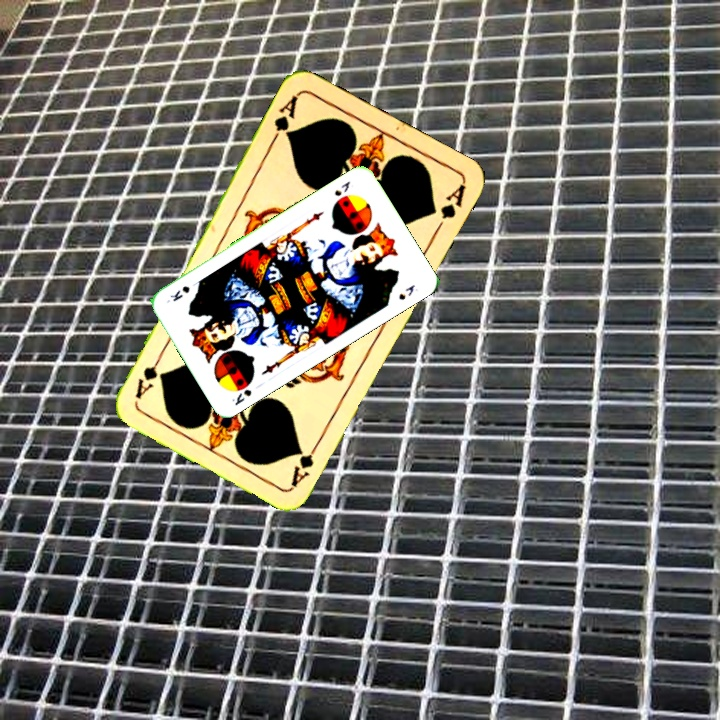GA: (287, 434, 324, 489), (267, 91, 301, 146)
SK: (228, 385, 254, 408), (330, 177, 353, 199)
